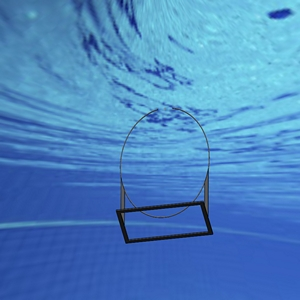circle: (115, 105, 214, 243)
